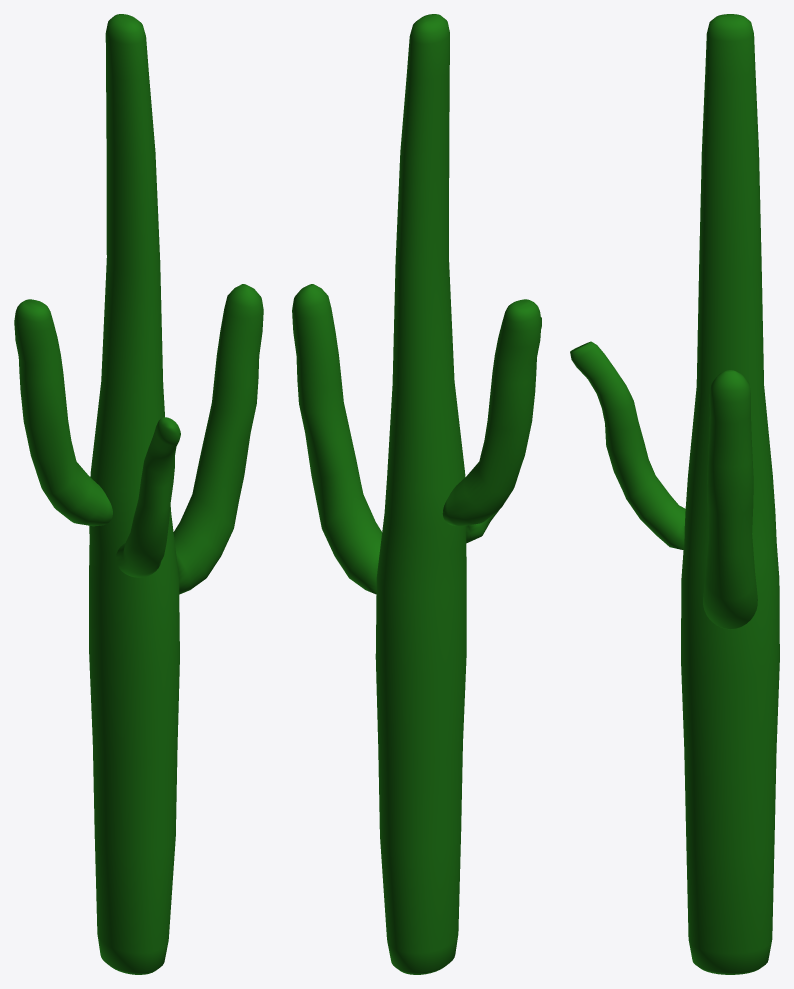
Rendered from Cactus.fbx.
The picture shows the model from 3 angles, left to right: view 1: azimuth 30°, elevation 25°; view 2: azimuth 150°, elevation 25°; view 3: azimuth 270°, elevation 25°; orthographic projection.
Visible parts, largest first — view 1: Cactus, Arm1, Arm2, Arm3; view 2: Cactus, Arm1, Arm2; view 3: Cactus, Arm1, Arm3.
Boxes of the visible parts, box(x1,y1,x2,y2) form: Cactus: box(89, 14, 179, 974); Arm1: box(173, 284, 263, 594); Arm2: box(14, 299, 112, 526); Arm3: box(116, 417, 180, 577); Cactus: box(375, 14, 466, 974); Arm1: box(292, 284, 381, 594); Arm2: box(442, 299, 541, 526); Cactus: box(681, 14, 779, 974); Arm1: box(703, 370, 757, 629); Arm3: box(570, 341, 685, 550).
Bounding box in the file's own units: 454 × 1688 × 339.
